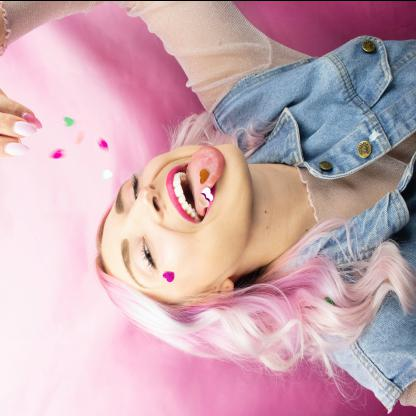Eye: (135, 233, 161, 277), (127, 174, 143, 204)
Mouth: (166, 144, 226, 224)
Nose: (127, 182, 164, 225)
